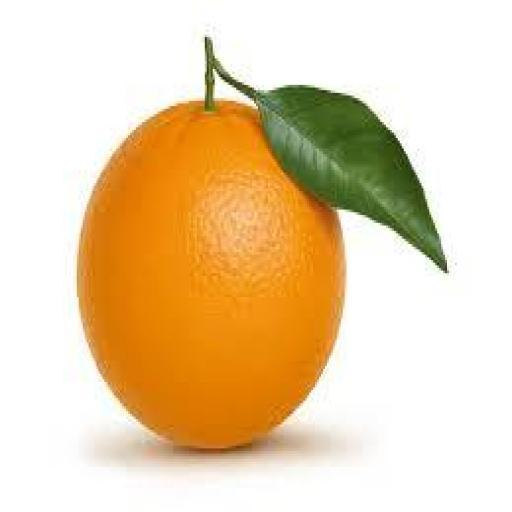orange: (79, 101, 344, 448)
